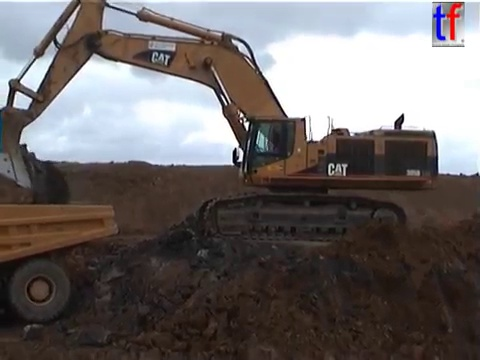excavator: (1, 1, 441, 248)
truck: (1, 198, 120, 323)
